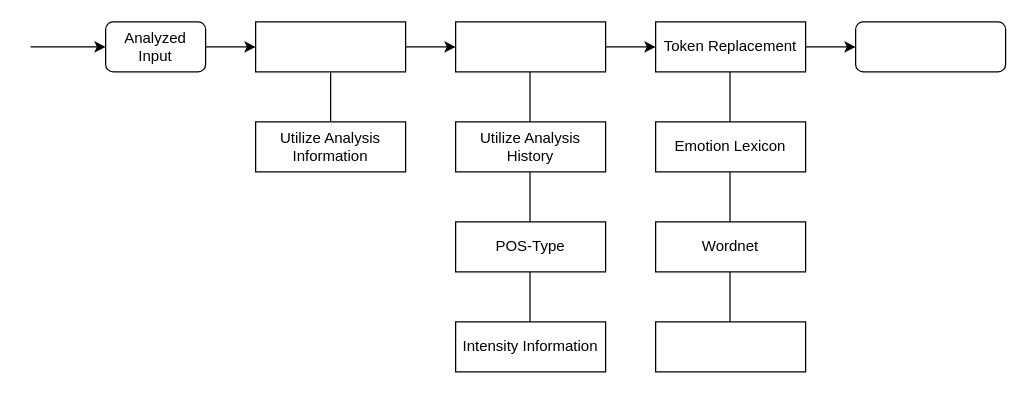
Some shapes in this 1028 by 394 pixel diagram are drawn without their labels. Here are the shapes that lost their labels. From the top down, the centre of each, then its label:
At pixel 330 46: "Identify Main Emotion".
At pixel 530 46: "Find Contributing Words".
At pixel 930 46: "Altered Sentence".
At pixel 730 346: "Filter = {intenser}".
